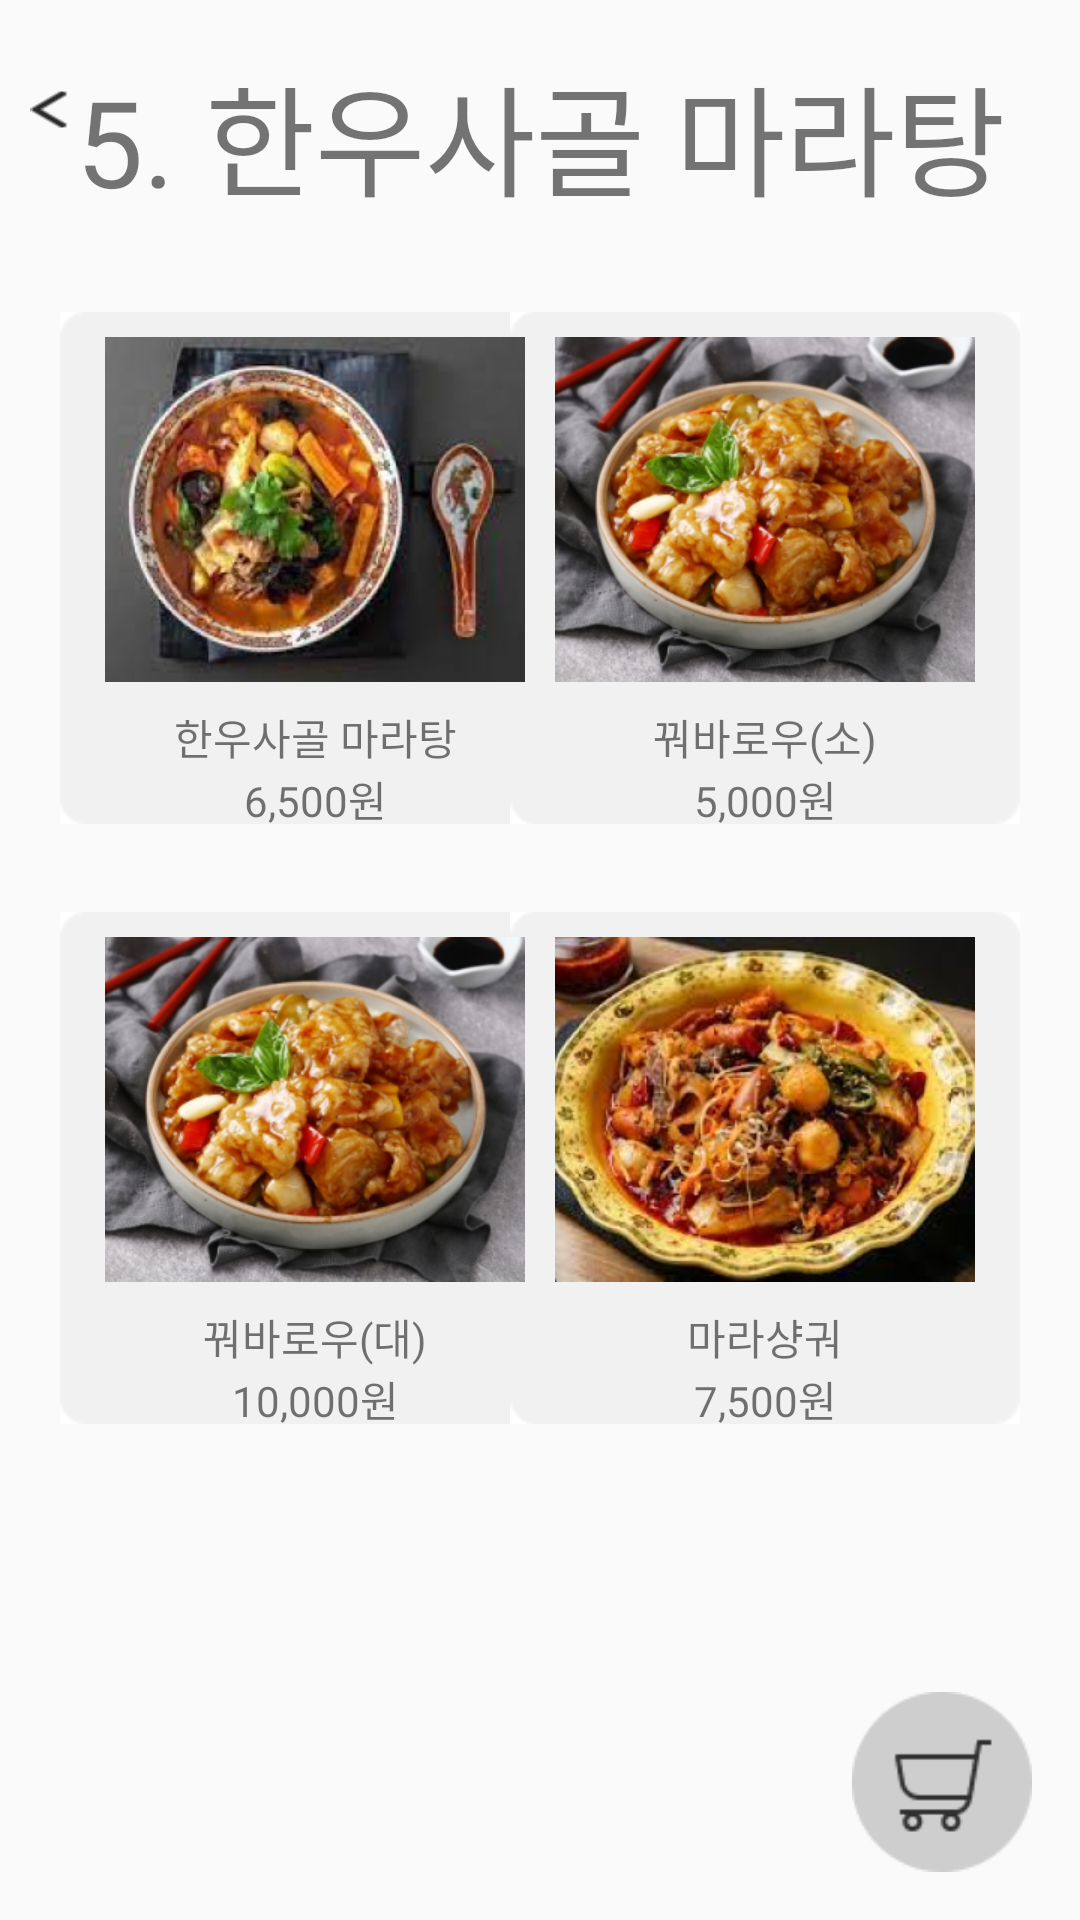

Point at icon controls on the screen. Image size 1080w x 1920h, points as (x,y).
basket: (942,1782)
goback: (48,109)
